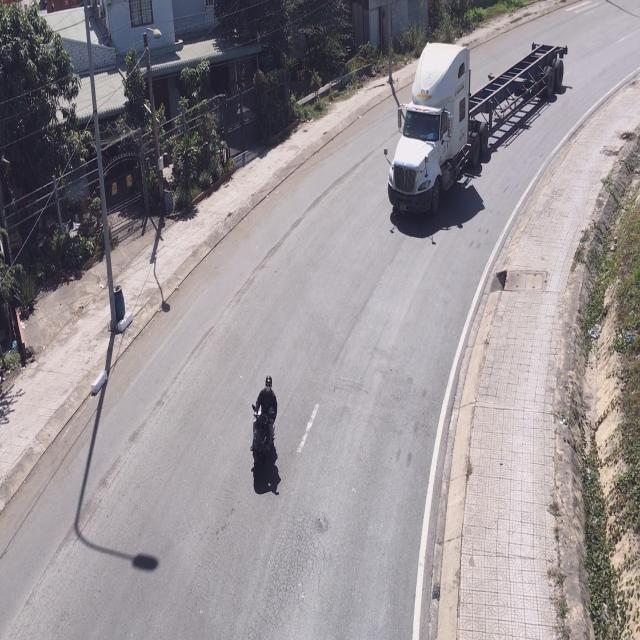motorbike: (252, 374, 281, 491)
truck: (384, 43, 568, 227)
